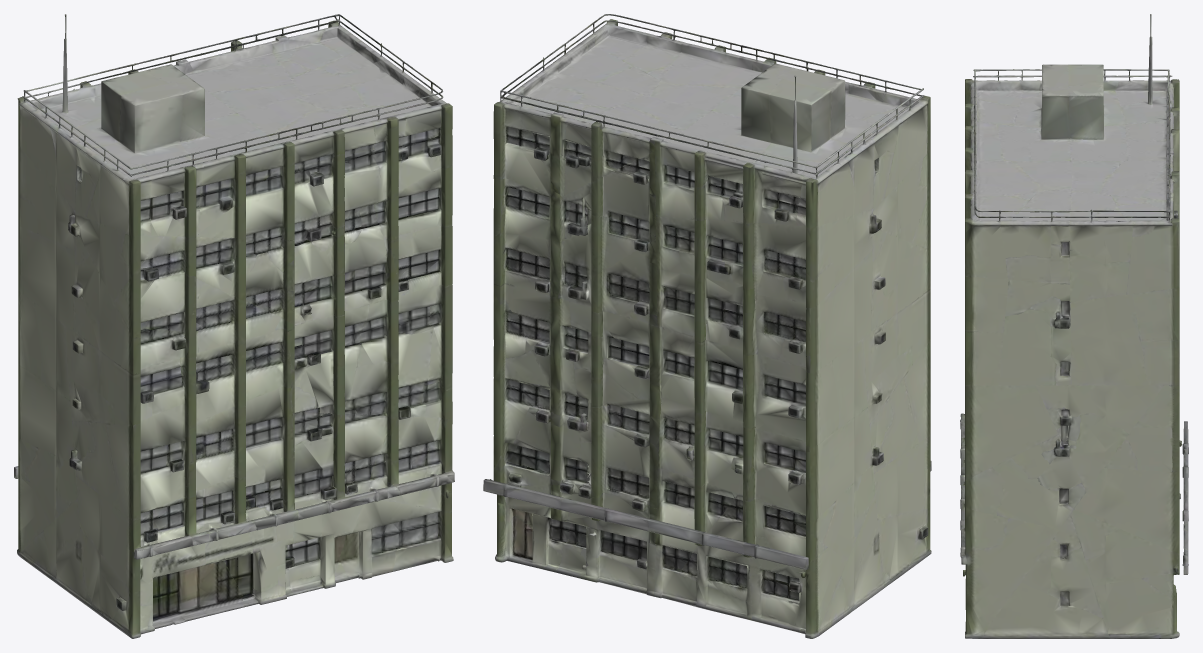
File: ensp-sergio-arouca.glb
The picture shows the model from 3 angles, left to right: view 1: azimuth 30°, elevation 25°; view 2: azimuth 150°, elevation 25°; view 3: azimuth 270°, elevation 25°; orthographic projection. The views are drawn at different scales.
Visible parts, largest first — view 1: mesh_node; view 2: mesh_node; view 3: mesh_node.
Part boxes in pixels (<box>): mesh_node: <box>14,14,454,638</box>; mesh_node: <box>483,14,931,638</box>; mesh_node: <box>960,14,1188,638</box>.
Size of the model in its own units: 1.22 by 1.9 by 0.7923.
Materials: 1 (1 with a texture image).
